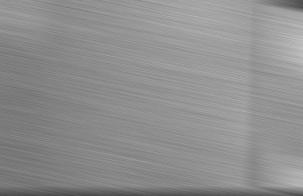Airbag: (0, 0, 303, 196), (0, 192, 303, 196)
